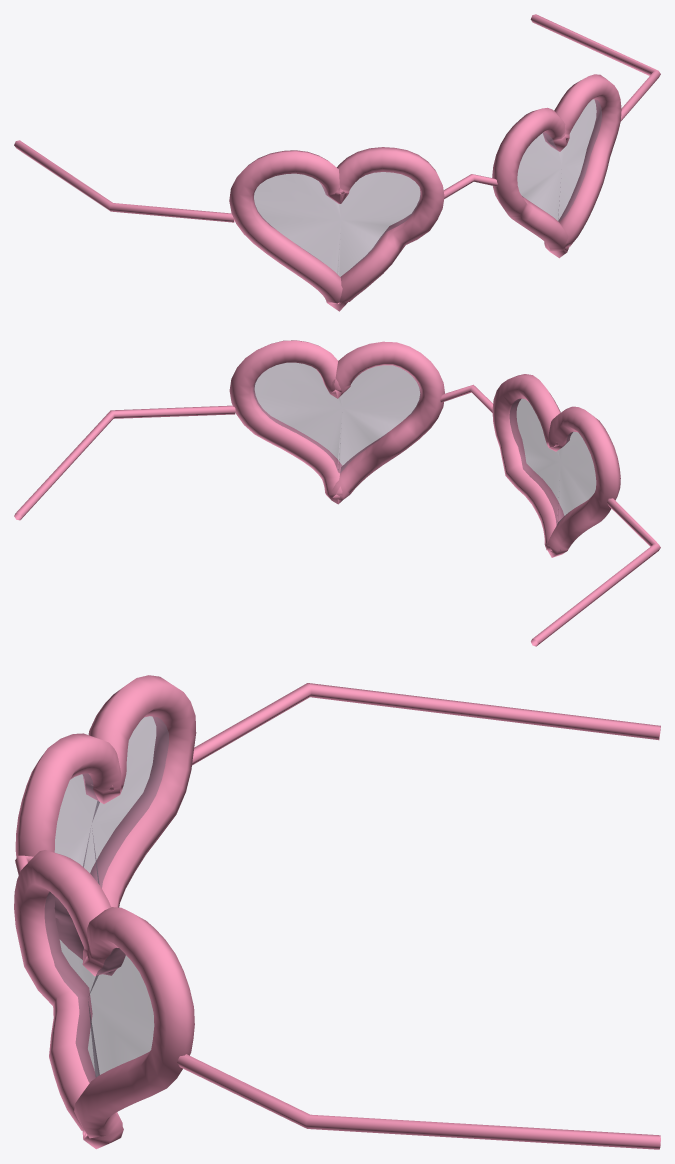
File: restart_glasses_heart_penguin.glb
3 renders of one model, top to bottom at view 1: azimuth 30°, elevation 25°; view 2: azimuth 150°, elevation 25°; view 3: azimuth 270°, elevation 25°, orthographic. The views are drawn at different scales.
Visible parts, largest first — view 1: Montura, Lente ahumada, Montura.001, Lente ahumada.001, Patilla curva, Patilla curva.001, Puente nasal; view 2: Montura.001, Lente ahumada.001, Montura, Lente ahumada, Patilla curva.001, Patilla curva, Puente nasal; view 3: Montura.001, Montura, Lente ahumada.001, Lente ahumada, Patilla curva.001, Patilla curva.
Boxes of the visible parts, <box> form: Montura: <box>229,147,444,311</box>; Lente ahumada: <box>253,172,420,276</box>; Montura.001: <box>492,74,621,258</box>; Lente ahumada.001: <box>517,99,601,221</box>; Patilla curva: <box>14,140,234,222</box>; Patilla curva.001: <box>530,14,660,120</box>; Puente nasal: <box>443,174,497,198</box>; Montura.001: <box>229,340,444,504</box>; Lente ahumada.001: <box>253,362,420,473</box>; Montura: <box>492,374,620,557</box>; Lente ahumada: <box>509,398,596,525</box>; Patilla curva.001: <box>14,405,235,520</box>; Patilla curva: <box>531,498,660,646</box>; Puente nasal: <box>440,384,492,412</box>; Montura.001: <box>14,850,194,1149</box>; Montura: <box>15,675,196,975</box>; Lente ahumada.001: <box>44,892,154,1082</box>; Lente ahumada: <box>54,716,168,887</box>; Patilla curva.001: <box>177,1054,660,1149</box>; Patilla curva: <box>192,683,660,765</box>.
Size of the model in its own units: 0.7072 by 0.1984 by 0.442.
